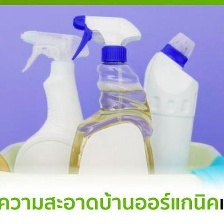cleaning_solution: (68, 11, 158, 218), (9, 27, 97, 219), (127, 30, 203, 222)
